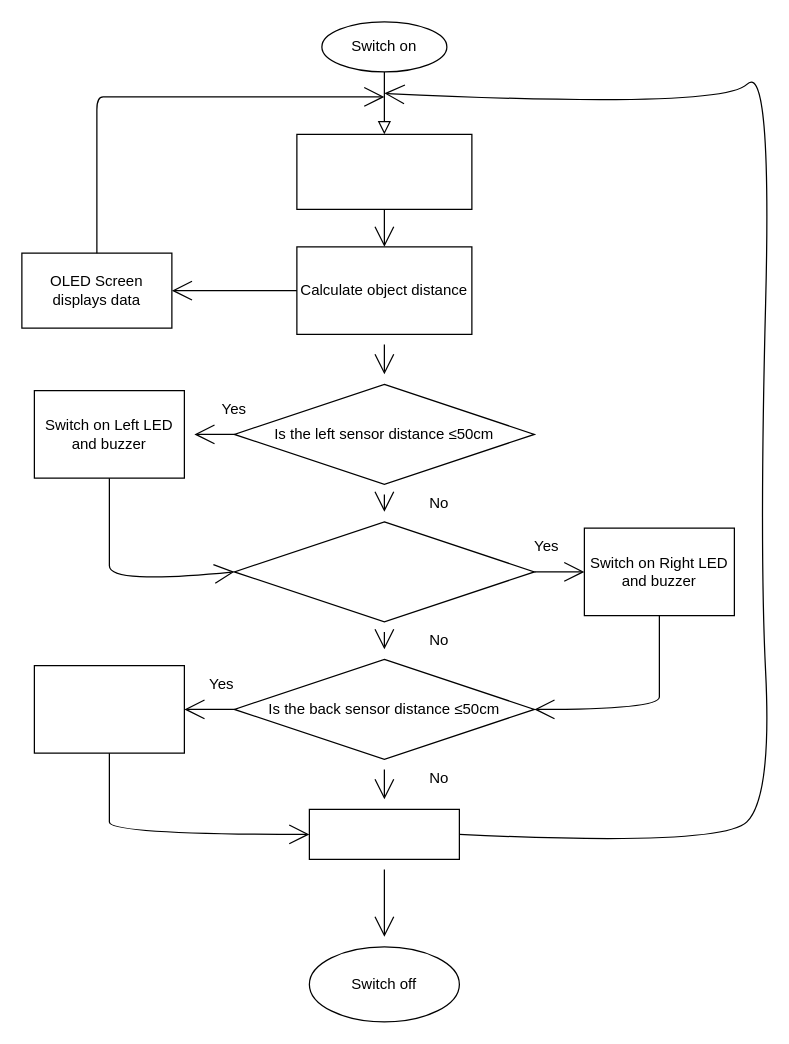
Some shapes in this 789 by 1044 pixel diagram are drawn without their labels. The shapes that lost their labels are listed below. From the top down, each one's centre as x and y in pixels, then its label:
At [384,171]: "Ultrasonic transceiver transmit and receive Ultrasound wave".
At [383,571]: "Is the right sensor distance ≤50cm".
At [108,708]: "Switch on Back LED and buzzer".
At [383,833]: "Continue operation".
